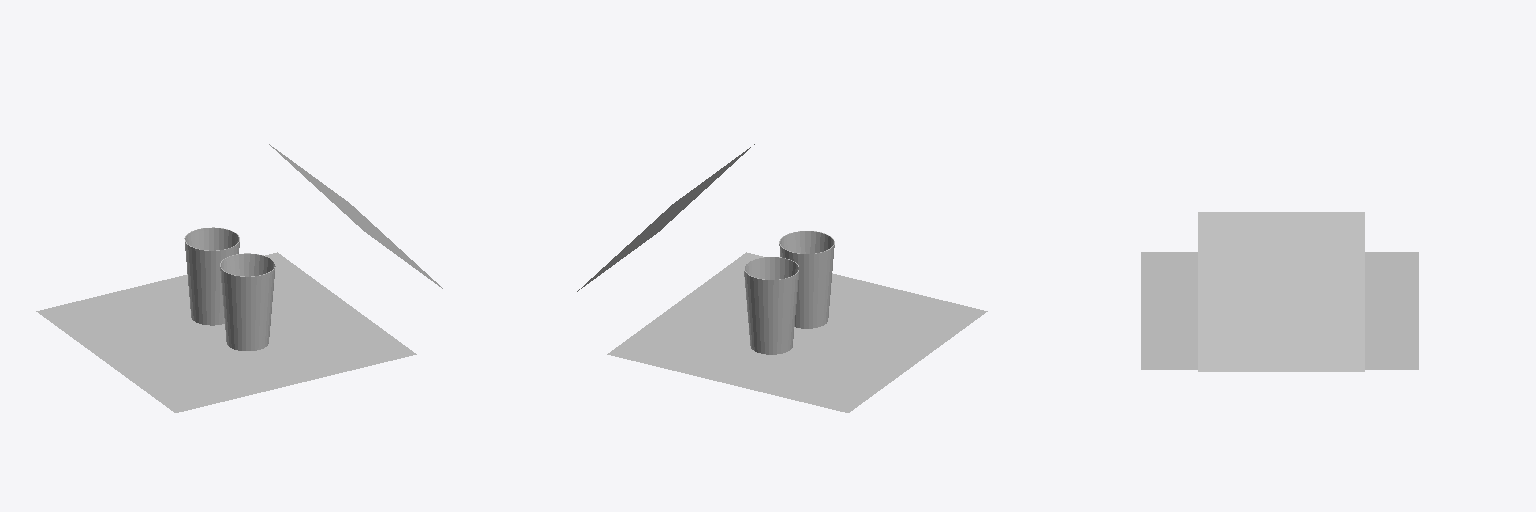
The model's file is throw.obj.
3 views of the same model, side by side, from view 1: azimuth 30°, elevation 25°; view 2: azimuth 150°, elevation 25°; view 3: azimuth 270°, elevation 25° (orthographic).
Parts seen in each view (by area): view 1: Ground_Plane.001, Glass_Cylinder.001, Glass.001_Cylinder.001, TopLight_Plane; view 2: Ground_Plane.001, Glass.001_Cylinder.001, Glass_Cylinder.001, TopLight_Plane; view 3: TopLight_Plane, Ground_Plane.001.
Part boxes in pixels (x1,y1,x2,y2): Ground_Plane.001: (36, 252, 416, 412); Glass_Cylinder.001: (220, 253, 275, 350); Glass.001_Cylinder.001: (184, 227, 239, 325); TopLight_Plane: (269, 144, 442, 288); Ground_Plane.001: (607, 252, 987, 412); Glass.001_Cylinder.001: (744, 257, 798, 354); Glass_Cylinder.001: (779, 231, 834, 328); TopLight_Plane: (577, 144, 754, 291); TopLight_Plane: (1198, 212, 1364, 371); Ground_Plane.001: (1141, 252, 1418, 369).
Size of the model in its own units: 12.44 by 5.52 by 10.